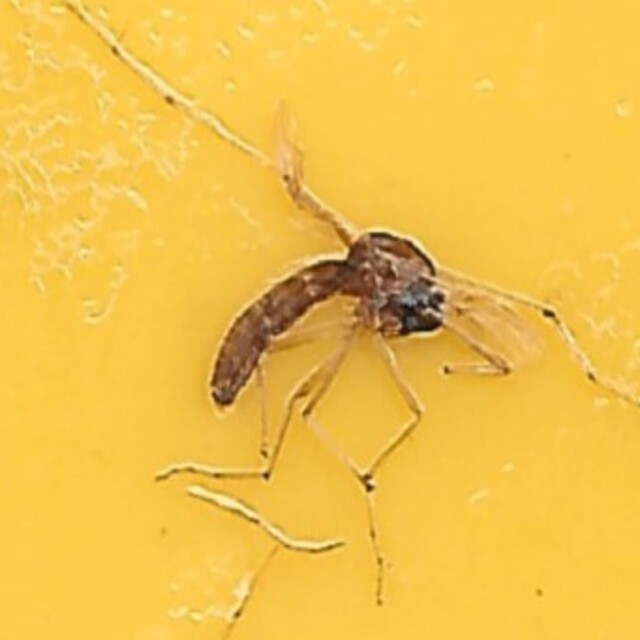Nematocera: (188, 211, 452, 429)
